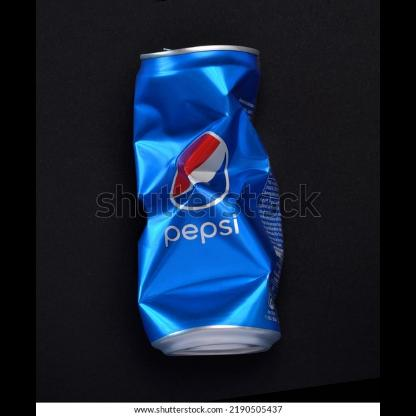Dent_Can: (143, 67, 275, 330)
Tin_Can: (123, 41, 285, 361)
